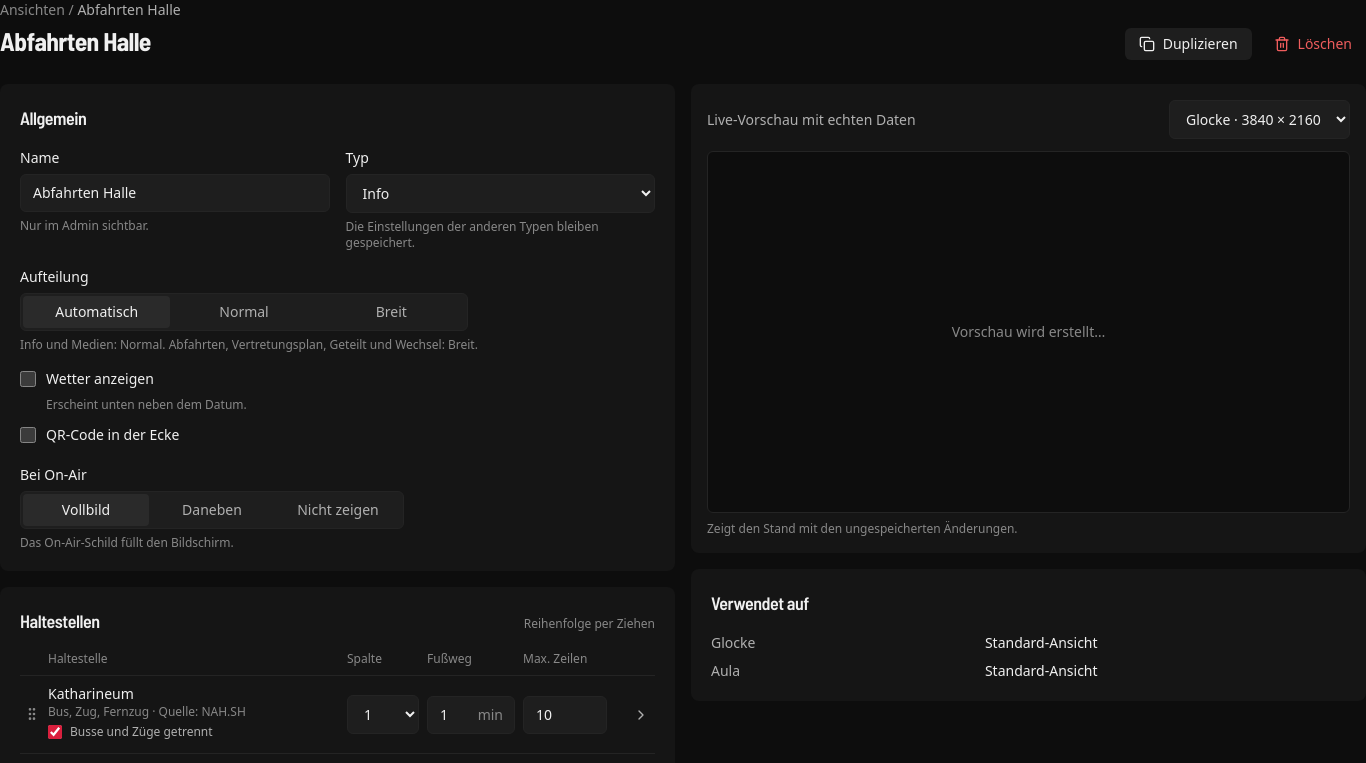
Test: ViewEdit › Typ ändern › nennt bei mehreren Bildschirmen die Zahl
The image size is (1366, 763).
Select "Info" in the dropdown named "Typ" at (500, 194), box [346,174,655,213]
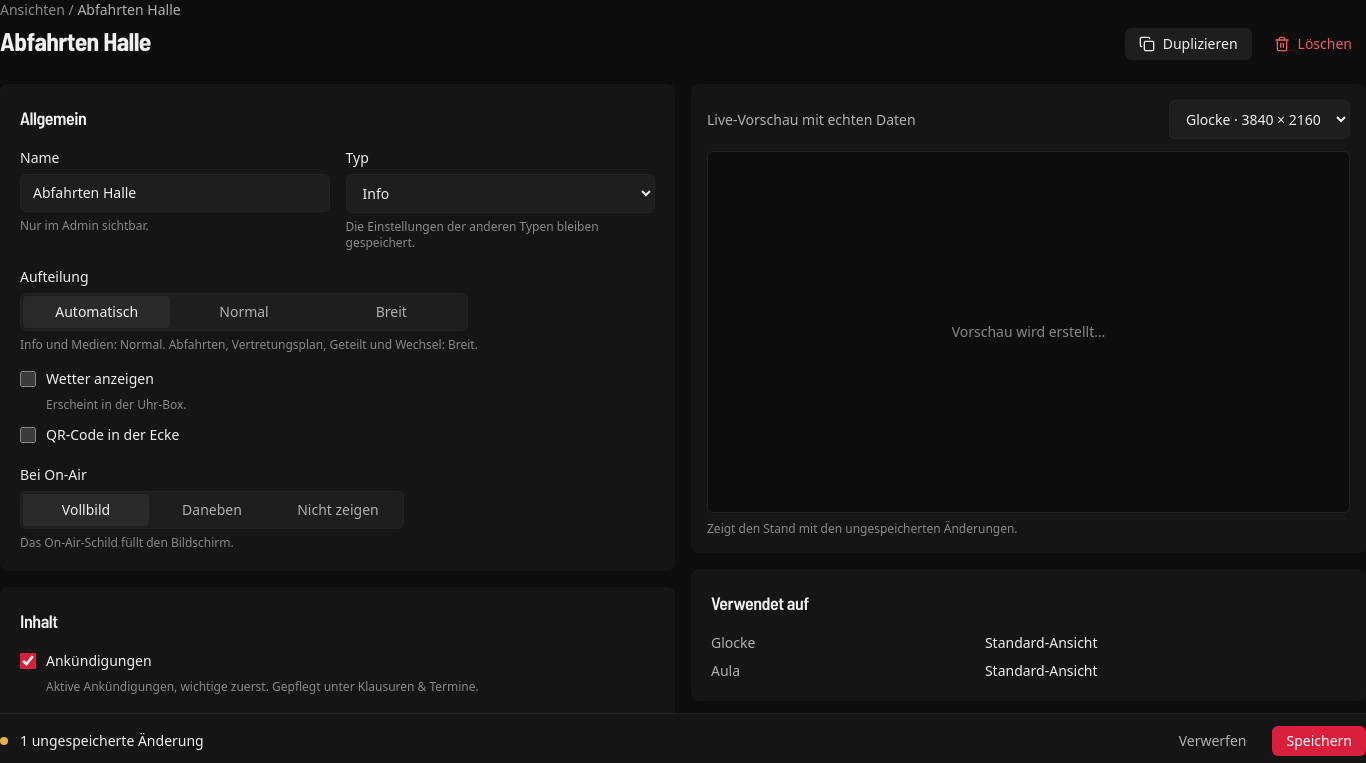
Click the button "Speichern" at (1319, 741), box [1272,726,1365,756]
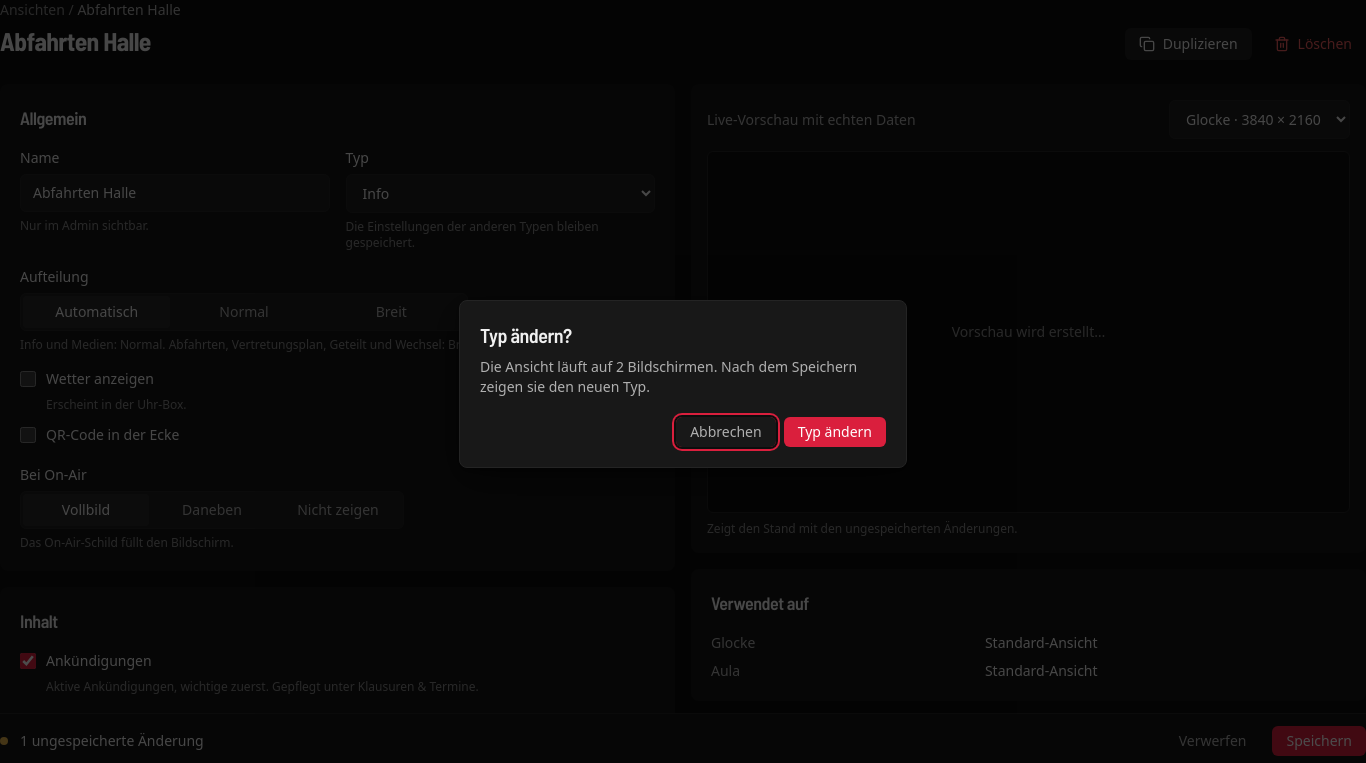
Check: the dialog shows "Die Ansicht läuft auf 2 Bildschirmen. Nach dem Speichern zeigen sie den neuen Typ.", box [480,357,857,396]
